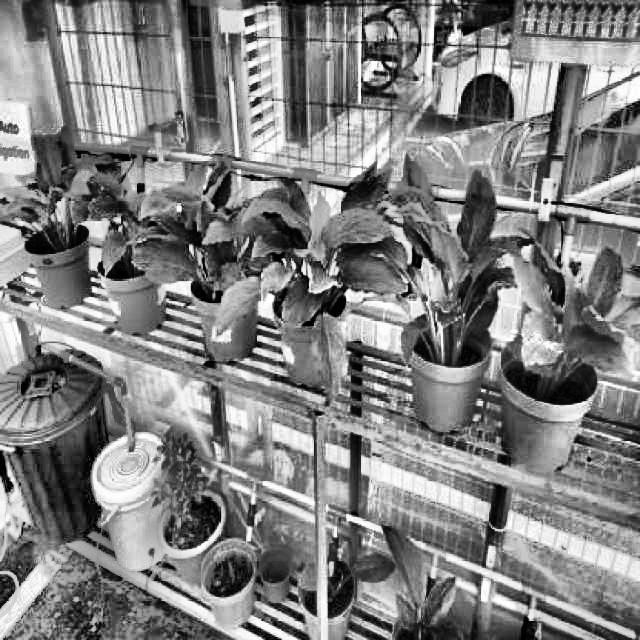plants: (202, 148, 410, 407), (386, 152, 537, 366), (507, 224, 640, 403), (130, 154, 258, 302), (0, 123, 123, 249)
